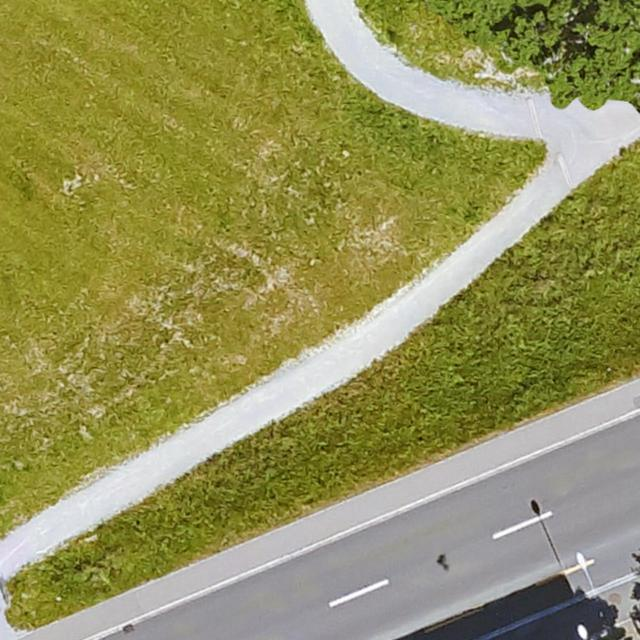tree: (504, 0, 640, 109)
